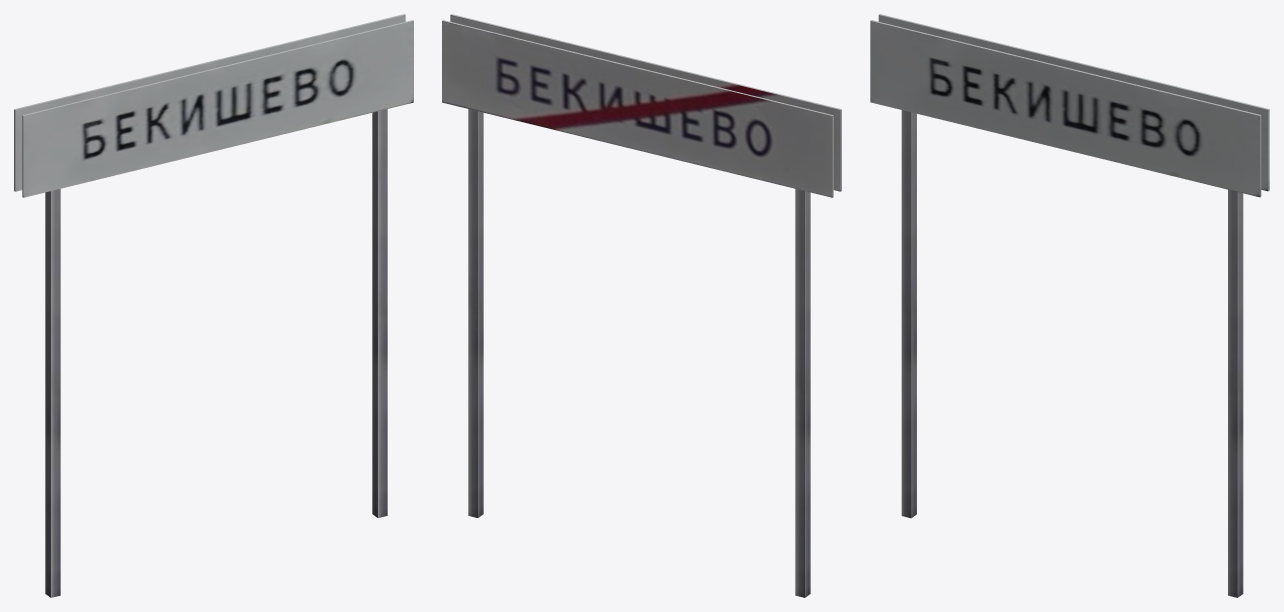
File: r402_znak_5.FBX
The picture shows the model from 3 angles, left to right: view 1: azimuth 30°, elevation 25°; view 2: azimuth 150°, elevation 25°; view 3: azimuth 330°, elevation 25°; orthographic projection.
Visible parts, largest first — view 1: r402_znak_5; view 2: r402_znak_5; view 3: r402_znak_5.
Part boxes in pixels (x1=…): r402_znak_5: x1=14, y1=14, x2=413, y2=597; r402_znak_5: x1=442, y1=14, x2=841, y2=597; r402_znak_5: x1=870, y1=14, x2=1269, y2=597.
Size of the model in its own units: 2 by 0.0831 by 2.4.
